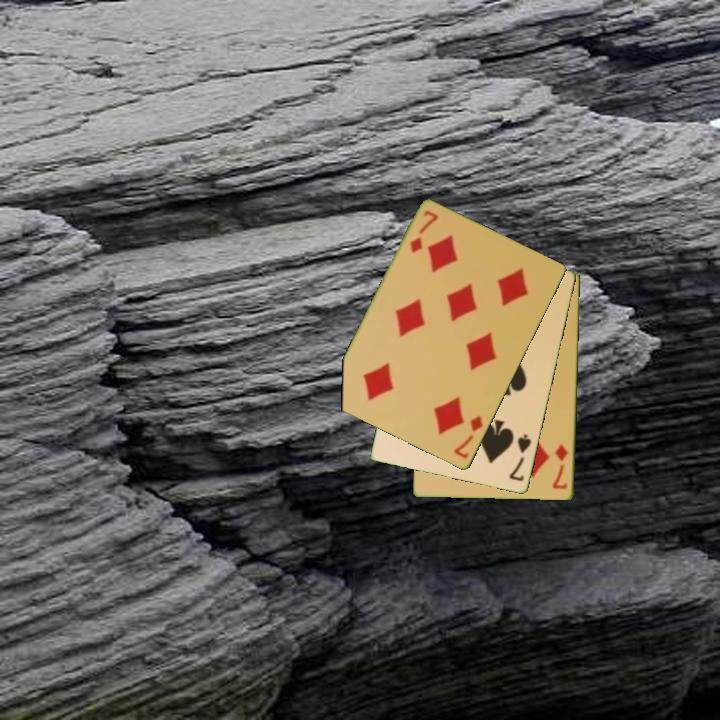7d: (450, 412, 486, 462), (407, 207, 441, 257), (550, 441, 571, 492)
7s: (506, 431, 534, 484)
